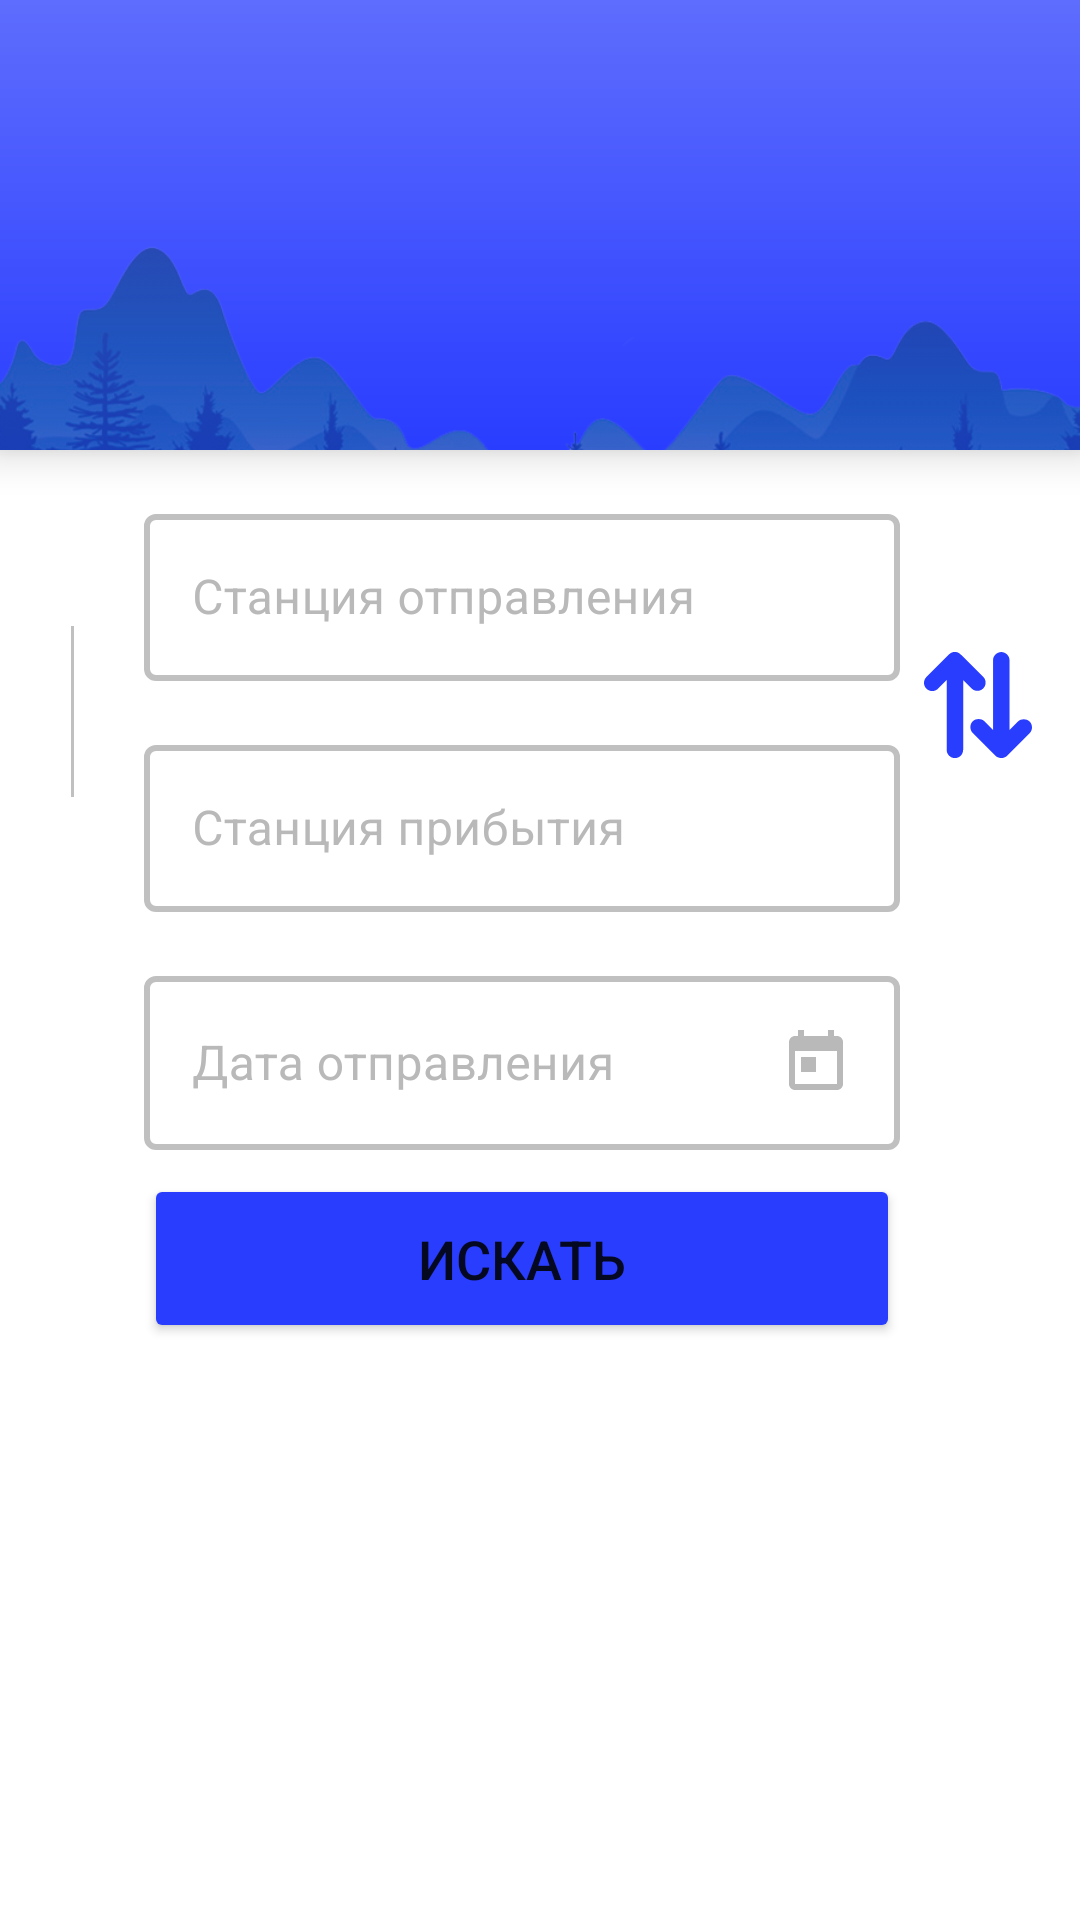

Icon click points for this 1080×1920 phone screenshot, format (x=x, y=y):
reverse: (x=978, y=705)
